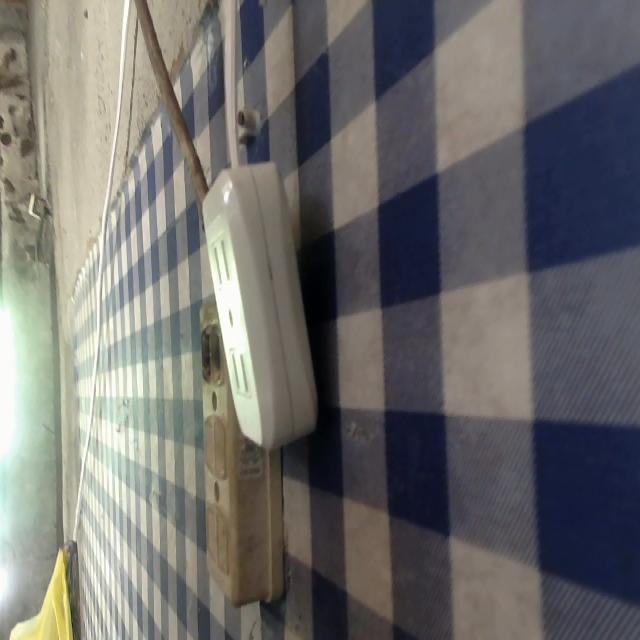-: (197, 313, 226, 387)
